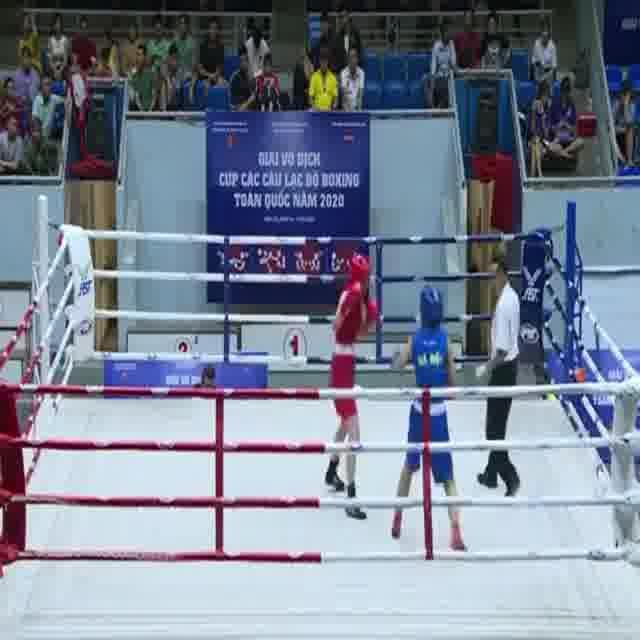blue-player: (390, 281, 469, 555)
red-player: (322, 251, 380, 521)
referee: (473, 257, 523, 502)
